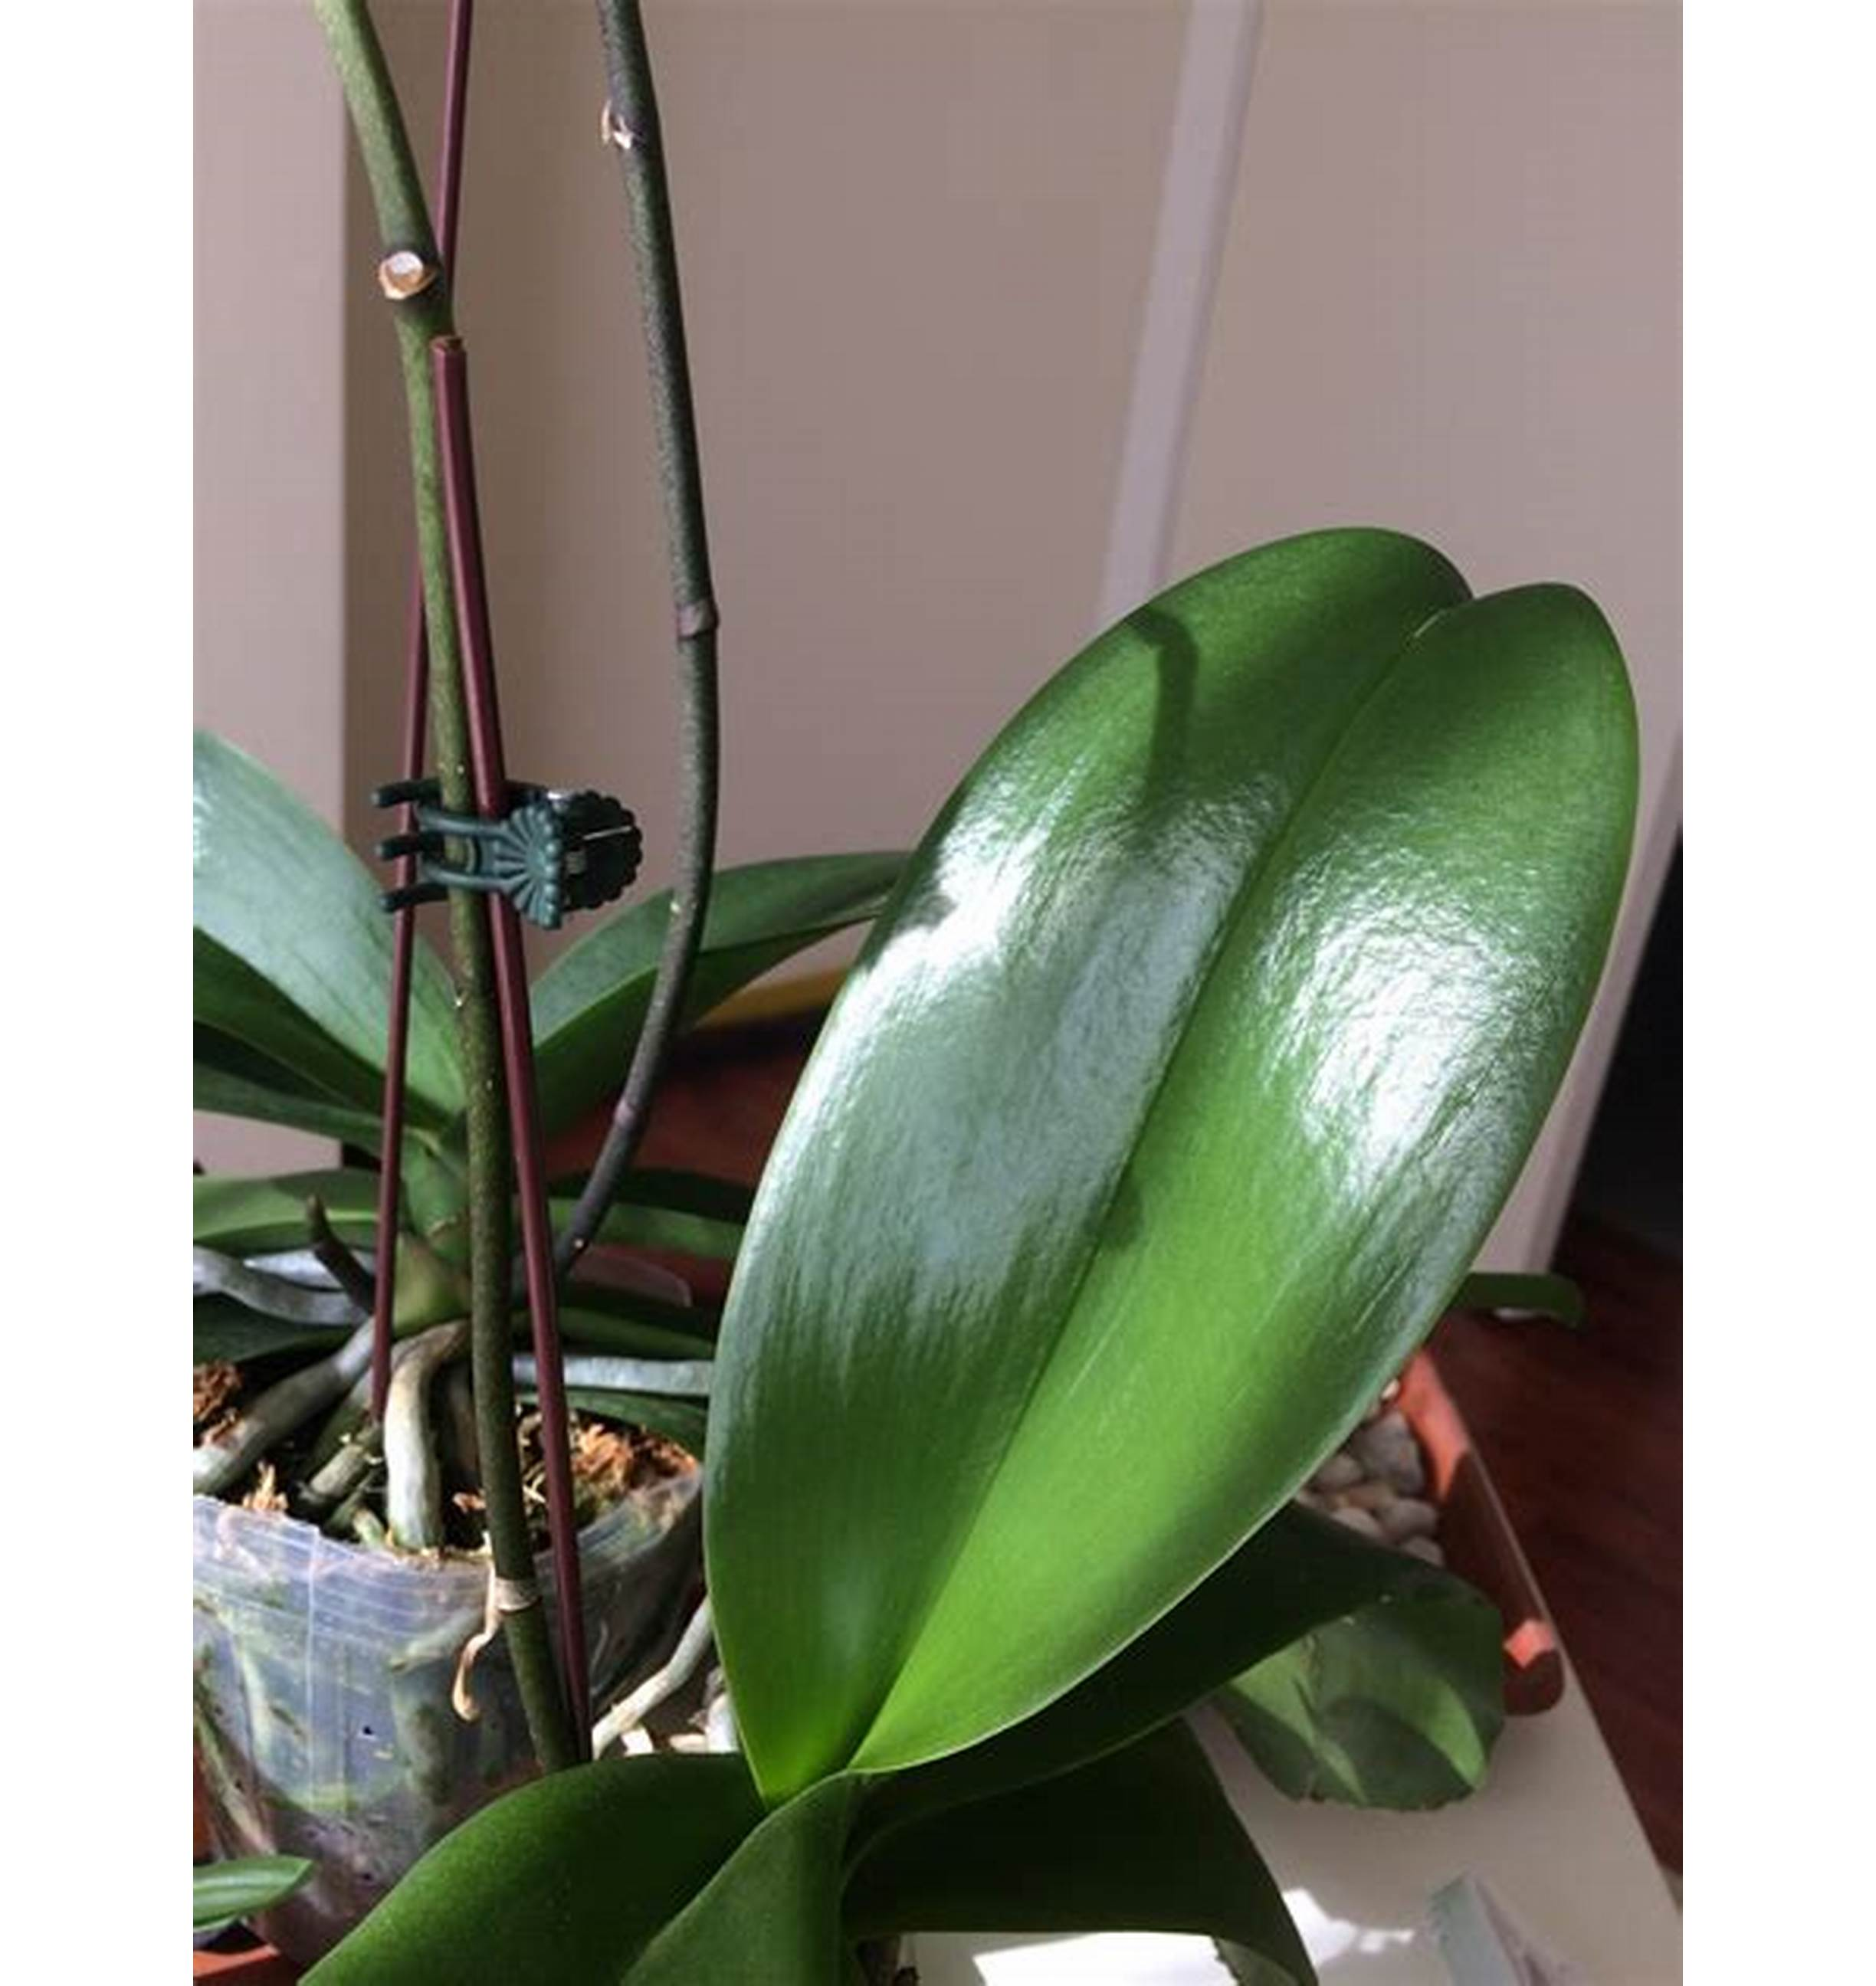orchid leaf: (709, 516, 1684, 1801)
